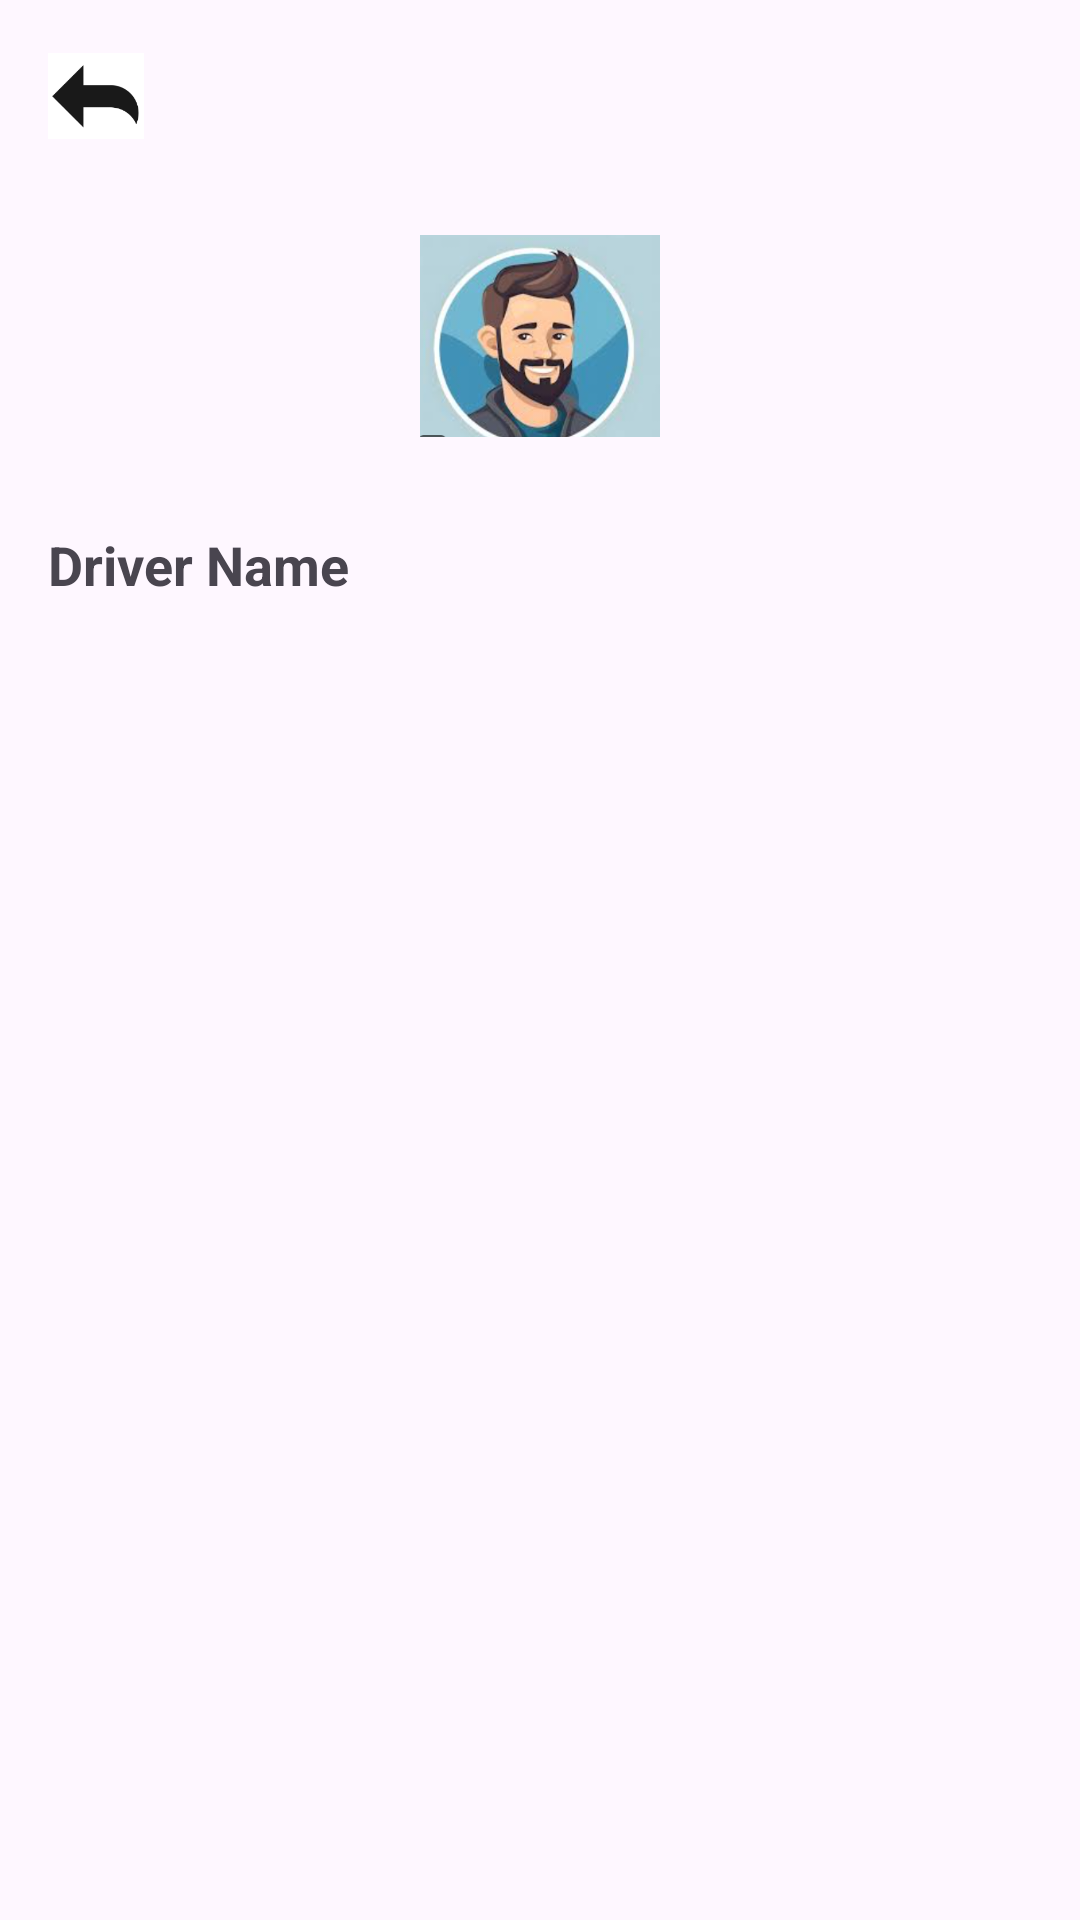

Screen size 1080*1920. Icon name, then its box in pixels as (x1, y1, x2, y2):
back: (52, 65, 139, 127)
profile: (420, 235, 660, 437)
